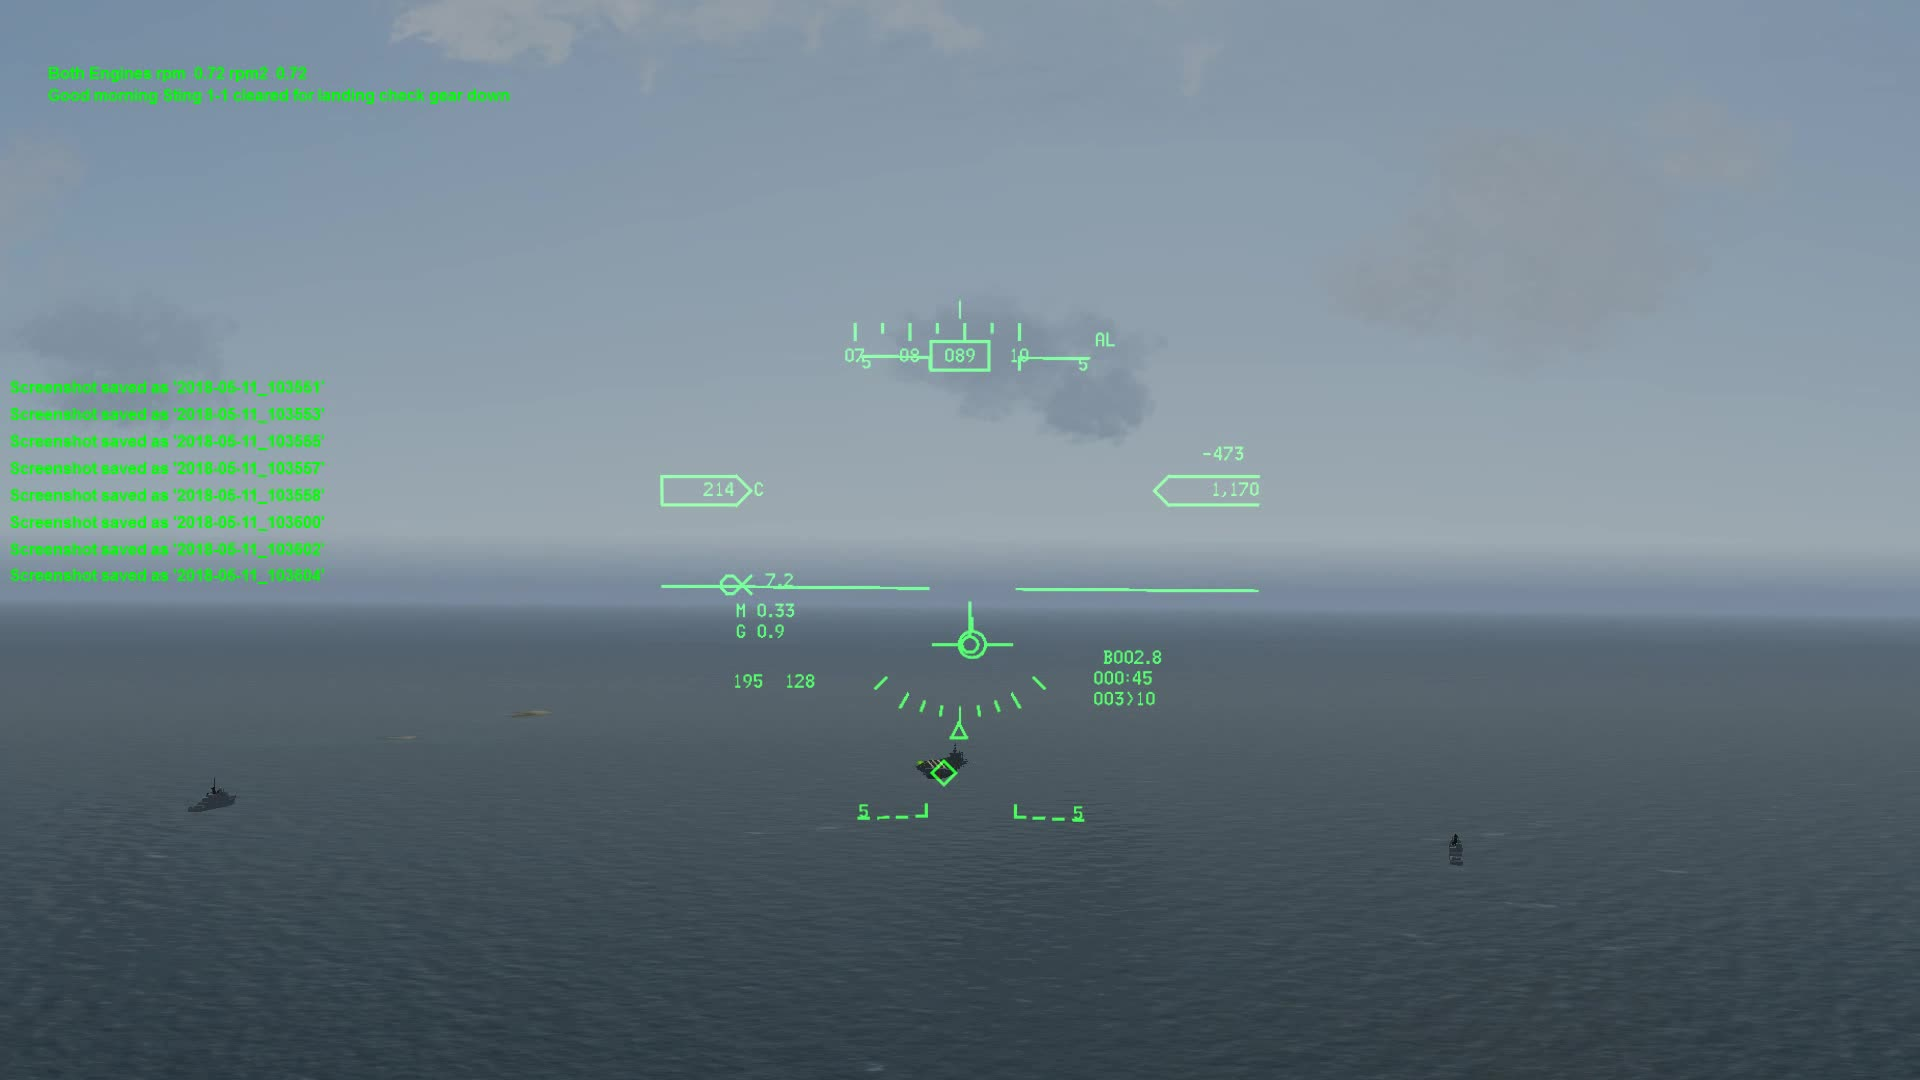speed vector: (928, 607, 1018, 665)
